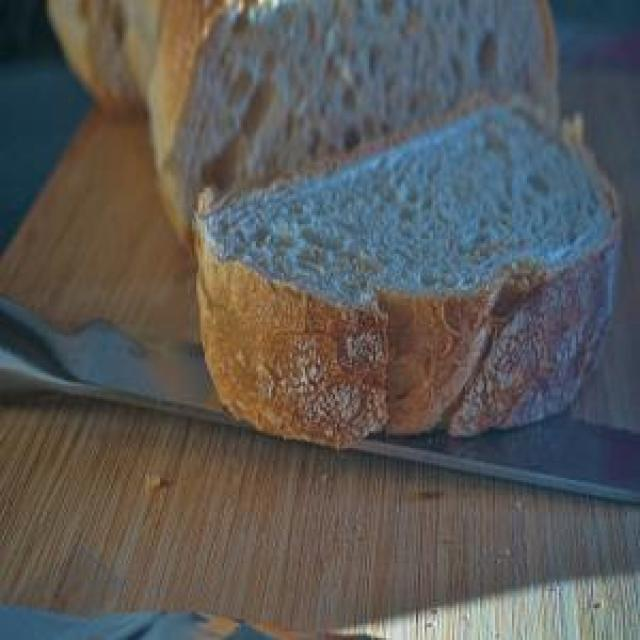knife: (0, 292, 638, 518)
